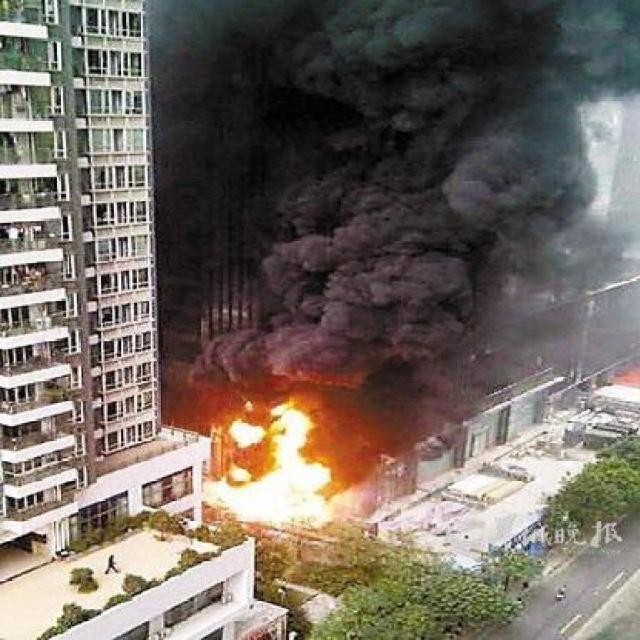Fire: (197, 394, 331, 532)
Smoke: (226, 4, 564, 400)
